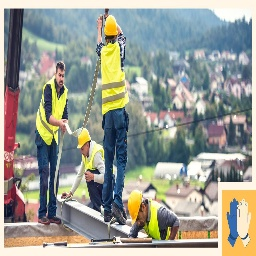helmet: (126, 190, 142, 227), (105, 15, 119, 37), (77, 129, 92, 148)
no-helmet: (54, 61, 66, 73)
person: (97, 12, 131, 228), (36, 56, 69, 226), (125, 188, 182, 240), (75, 124, 102, 208)
vest: (100, 43, 129, 114), (39, 80, 68, 144), (146, 196, 171, 241)
